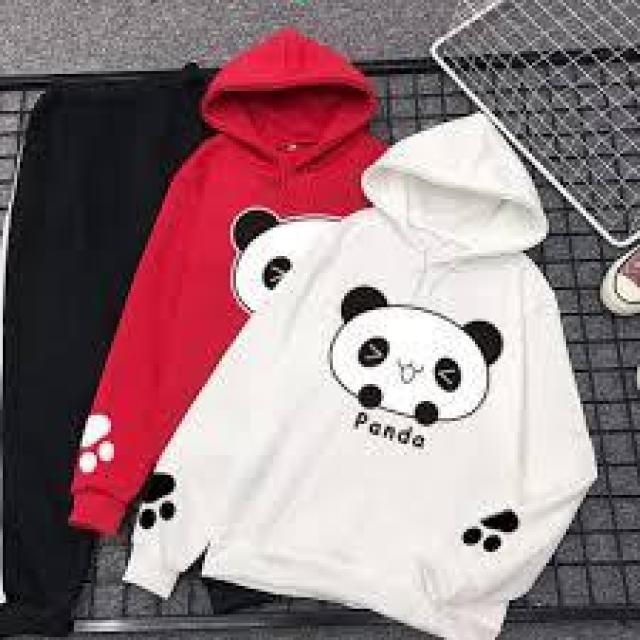sweater: (117, 114, 597, 637), (67, 27, 402, 539)
